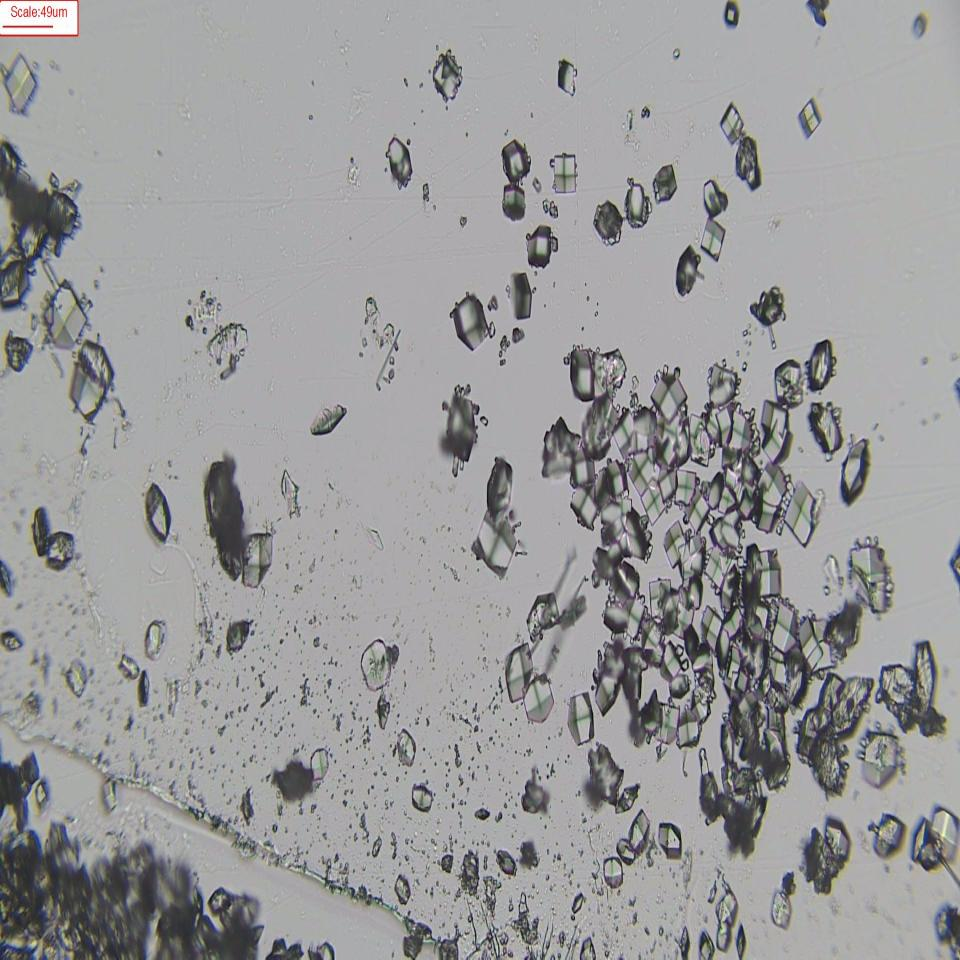crystal: (41, 281, 85, 349), (74, 344, 110, 418), (603, 492, 642, 560), (477, 511, 516, 573), (784, 484, 818, 546), (841, 440, 870, 508), (454, 296, 489, 348), (4, 57, 38, 110), (864, 731, 898, 784), (812, 398, 845, 452), (485, 454, 513, 514), (242, 534, 274, 586), (524, 679, 562, 722), (384, 135, 416, 186), (568, 347, 597, 403), (805, 334, 835, 388), (360, 638, 391, 688), (504, 649, 535, 699), (568, 691, 594, 746), (144, 483, 170, 537), (430, 55, 459, 102), (675, 243, 698, 301), (46, 531, 78, 572), (594, 197, 621, 245), (509, 270, 533, 320), (875, 814, 904, 854), (310, 405, 347, 436), (702, 176, 731, 215), (626, 181, 649, 229), (501, 140, 528, 180), (652, 163, 678, 204), (701, 217, 725, 261), (528, 223, 552, 266), (552, 152, 577, 192), (721, 103, 744, 146), (557, 60, 580, 100), (798, 99, 822, 136), (226, 617, 250, 654), (659, 822, 683, 858), (770, 889, 792, 928), (67, 661, 89, 699), (501, 188, 527, 220), (145, 617, 164, 658), (29, 511, 47, 553), (603, 852, 622, 888), (398, 728, 416, 766), (495, 848, 517, 877), (412, 782, 433, 811), (394, 873, 410, 905), (310, 750, 327, 780)
not_crystal: (599, 566, 657, 702), (803, 670, 857, 788), (705, 438, 777, 520), (727, 697, 791, 770), (668, 524, 738, 588), (629, 448, 691, 520), (718, 612, 799, 667), (655, 382, 689, 464), (714, 886, 738, 954), (717, 608, 745, 666), (725, 410, 753, 458), (674, 584, 699, 636)
